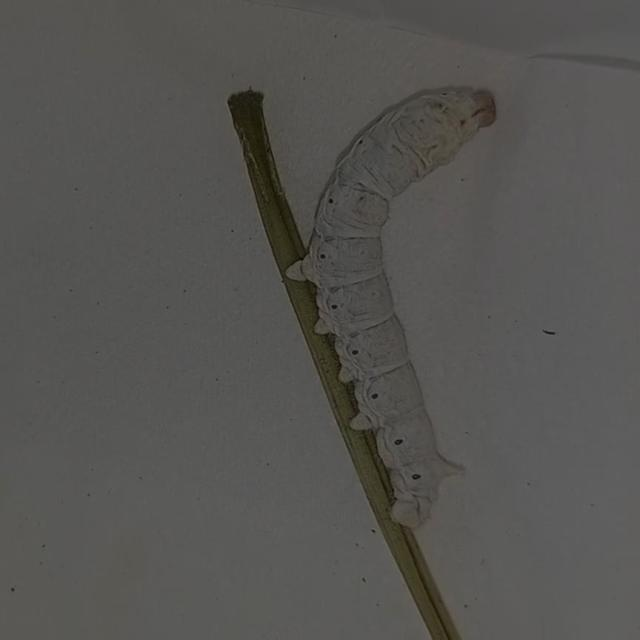Healthy: (270, 46, 570, 542)
